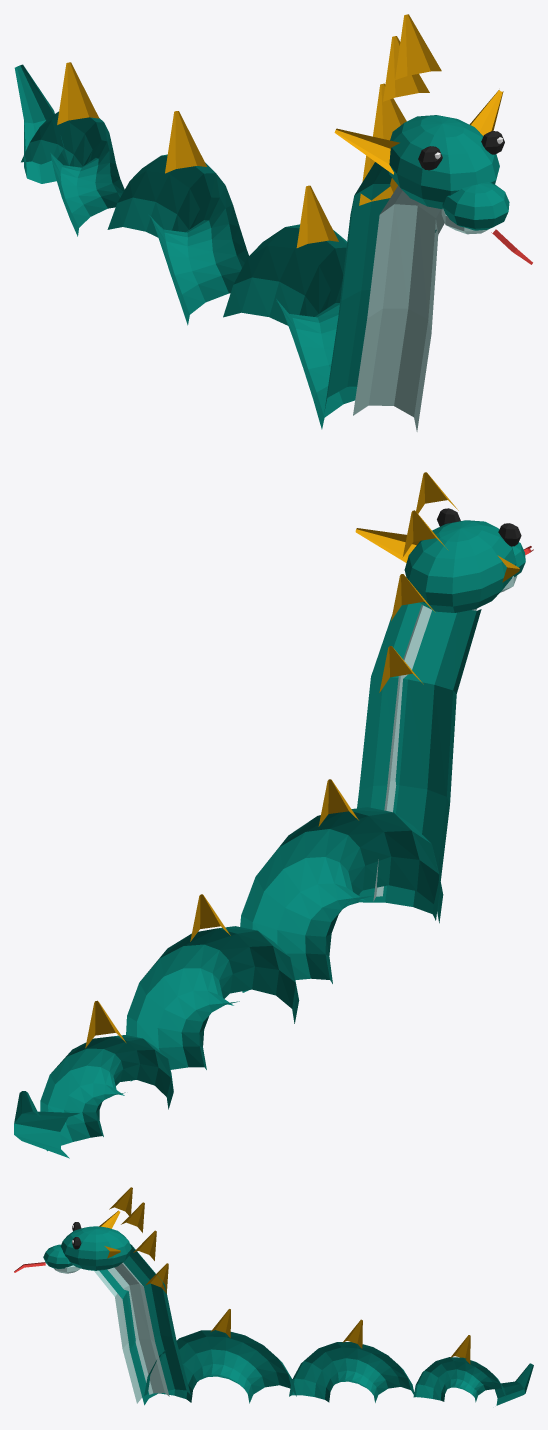
File: sjoorm.glb
3 views of the same model, one above another, from view 1: azimuth 30°, elevation 25°; view 2: azimuth 150°, elevation 25°; view 3: azimuth 270°, elevation 25° (orthographic). The views are drawn at different scales.
Parts seen in each view (by area): view 1: sjoorm; view 2: sjoorm; view 3: sjoorm.
Boxes of the visible parts, left/top/right/bottom form: sjoorm: left=14, top=14, right=532, bottom=431; sjoorm: left=14, top=472, right=533, bottom=1158; sjoorm: left=14, top=1187, right=533, bottom=1405.
Bounding box in the file's own units: 0.4057 × 1.01 × 2.17.
